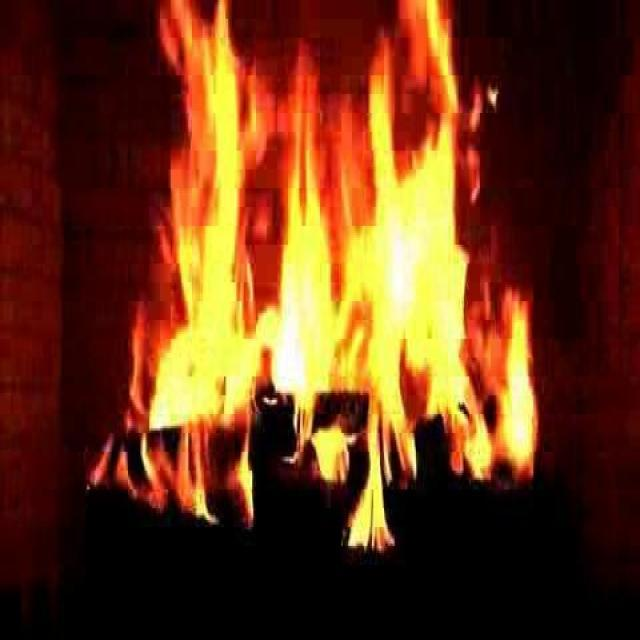Fire: (62, 3, 570, 555)
